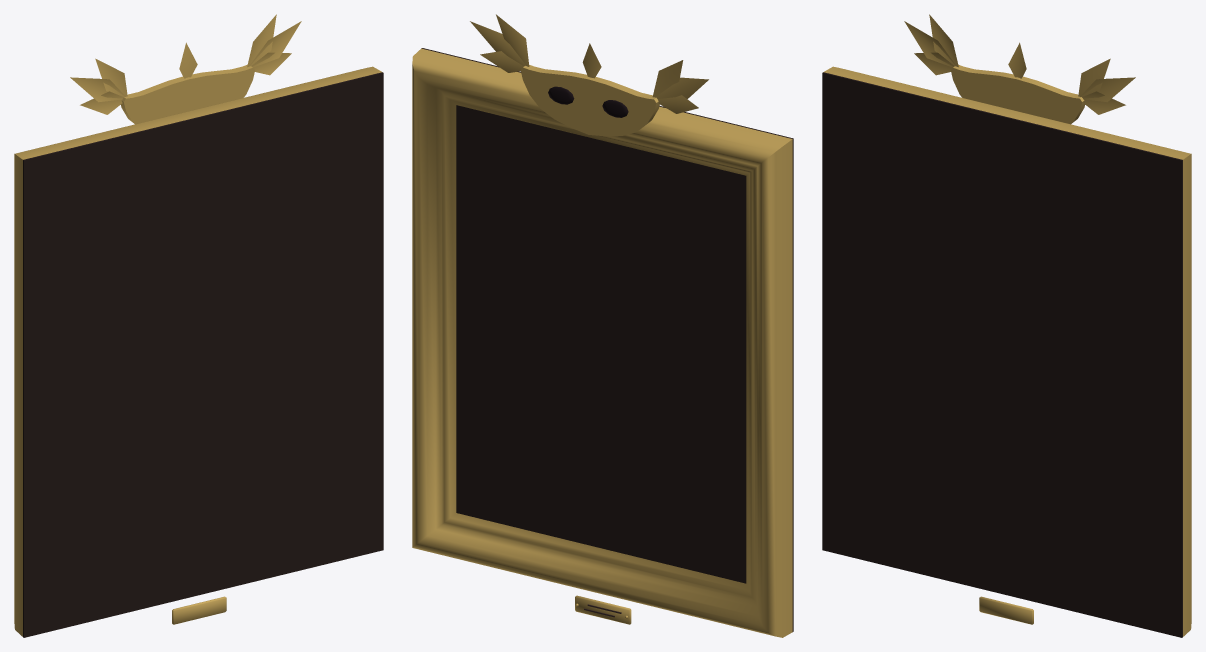
Rendered from mask_crest_port.glb.
3 views of the same model, side by side, from view 1: azimuth 30°, elevation 25°; view 2: azimuth 150°, elevation 25°; view 3: azimuth 330°, elevation 25° (orthographic). The views are drawn at different scales.
Visible parts, largest first — view 1: mask_crest_port; view 2: mask_crest_port; view 3: mask_crest_port.
Boxes of the visible parts, x1,y1,x2,y2 form: mask_crest_port: (14, 14, 383, 637); mask_crest_port: (412, 14, 793, 637); mask_crest_port: (822, 14, 1191, 637).
Size of what is drawn, in the model's own units: 0.93 by 1.41 by 0.0883.
